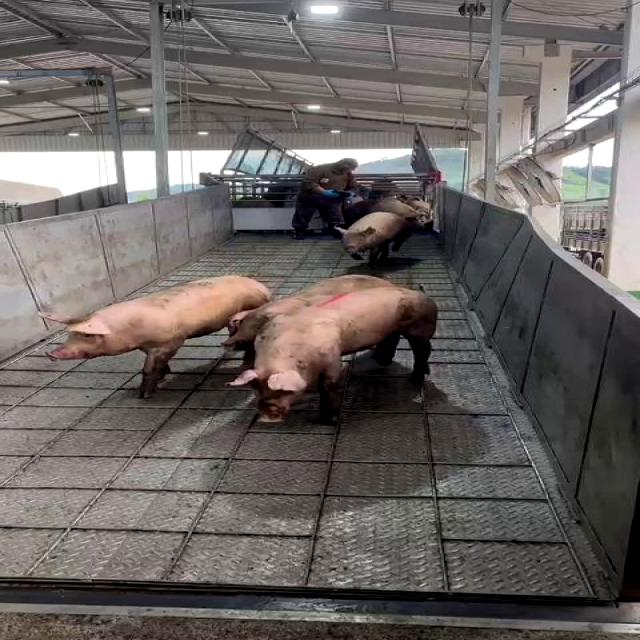pig: (224, 287, 440, 424), (41, 275, 270, 401), (219, 273, 386, 353), (336, 214, 410, 267)
